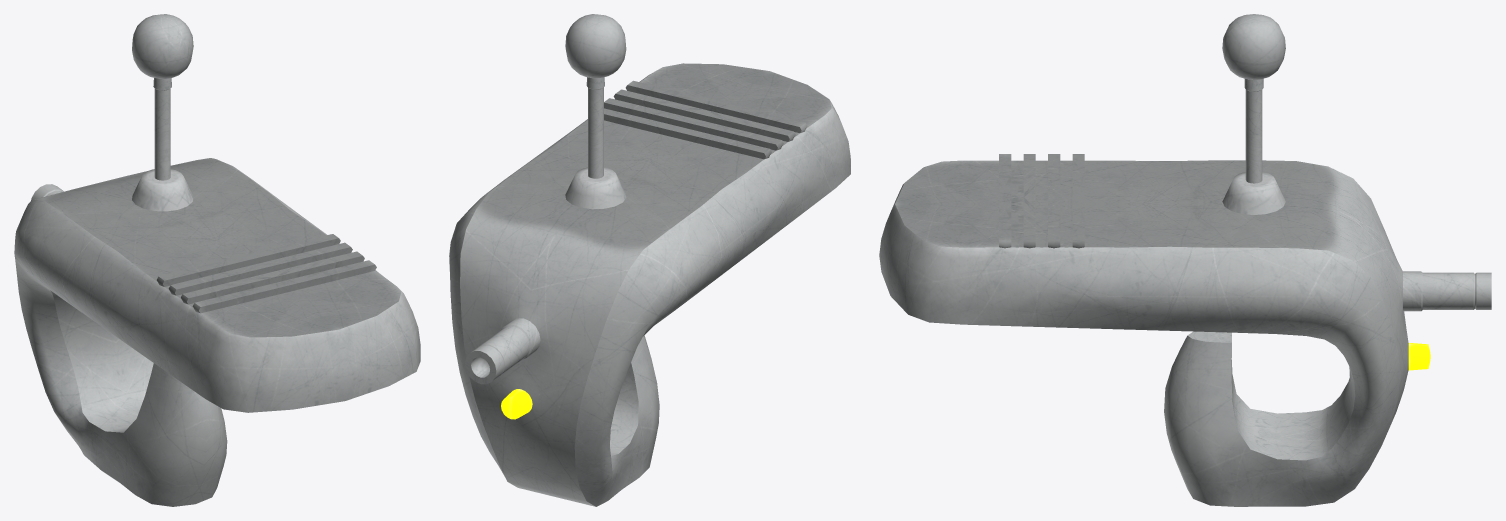
The model's file is gun.fbx.
3 renders of one model, left to right at view 1: azimuth 30°, elevation 25°; view 2: azimuth 150°, elevation 25°; view 3: azimuth 270°, elevation 25°, orthographic. The views are drawn at different scales.
Visible parts, largest first — view 1: gun; view 2: gun; view 3: gun.
Boxes of the visible parts, x1,y1,x2,y2 form: gun: [14, 14, 420, 506]; gun: [449, 14, 850, 506]; gun: [879, 14, 1491, 506].
Bounding box in the file's own units: 72.1 × 137 × 161.
